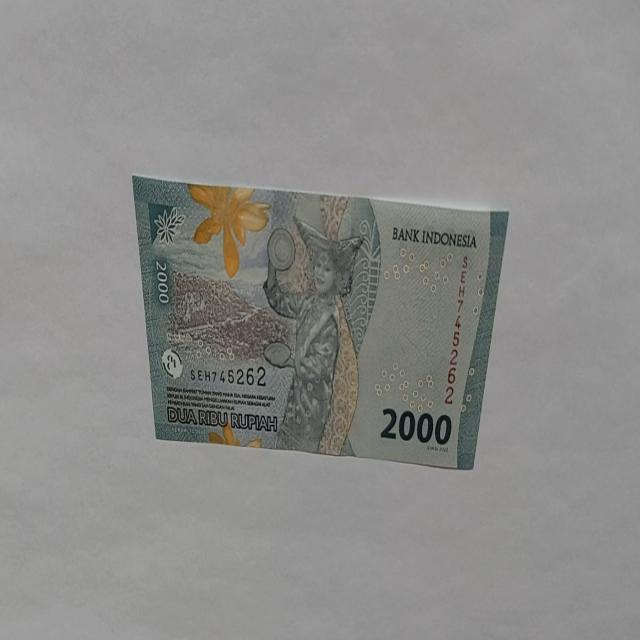dua ribu rupiah: (131, 175, 509, 470), (260, 214, 364, 454), (186, 182, 272, 278)
